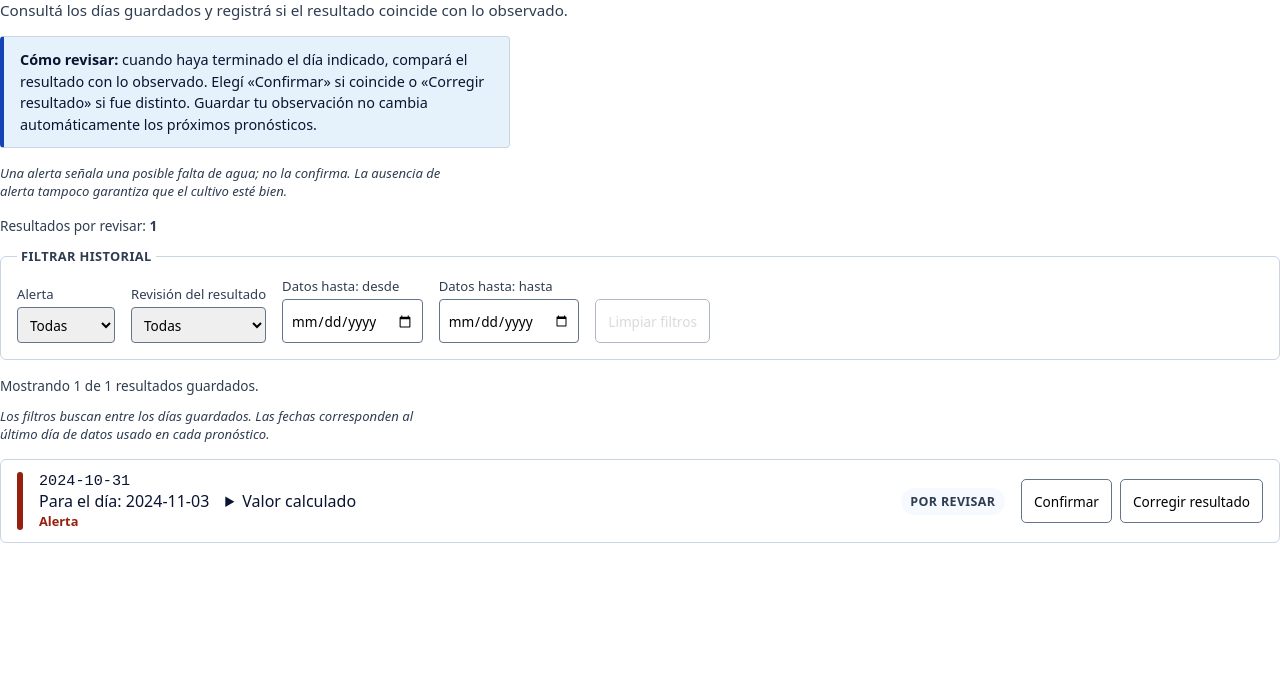
Test case: ForecastPage (Historial y observaciones) › corrección inline (task 3.1) › orients to Confirmar instead of saving when the same label as the original is selected
Expected: the text "2024-10-31" is shown, [39,472,130,490]
What coordinates should you click on to do the following:
click the button "Corregir resultado"
I would click on:
 (1192, 501)
Its box is [1120,479,1263,523].
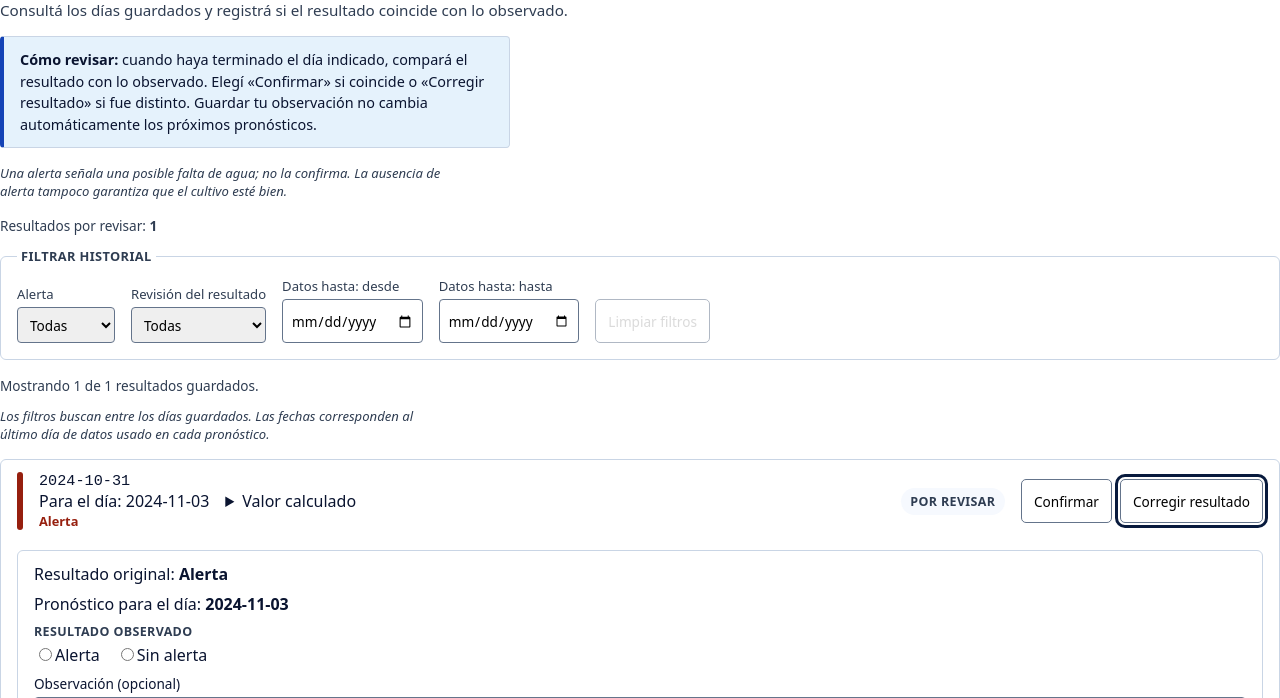
What coordinates should you click on to do the following:
click the radio button labelled "Alerta"
I would click on:
 (46, 655)
Its box is [39,648,52,661].
(page scrolled)
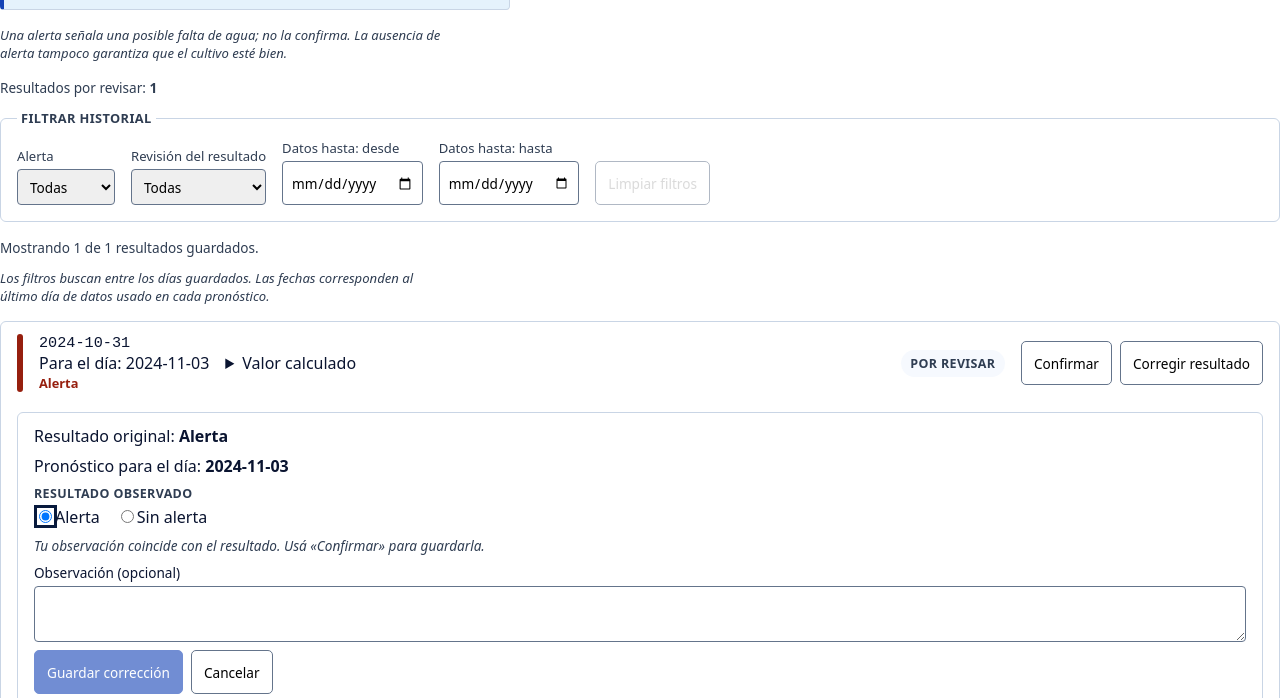
Result: the button "Guardar corrección" is disabled at [34,650,183,694]
Result: the text "Tu observación coincide con el resultado. Usá «Confirmar» para guardarla." is shown at [34,536,485,555]
